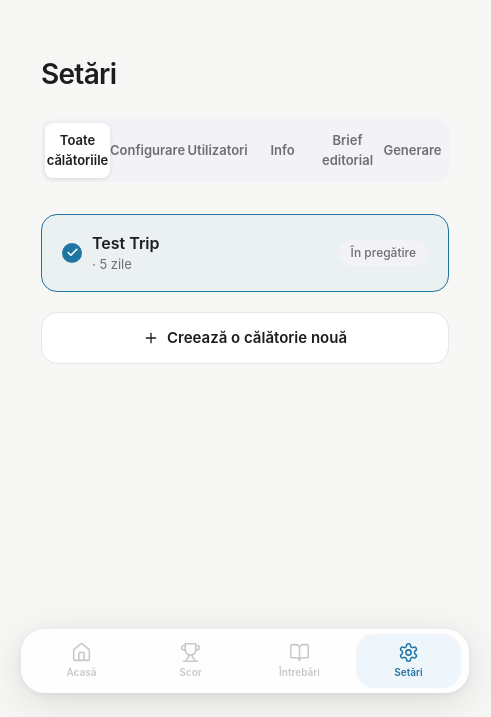
Test: R9: Generare tab -- draft review (accept/edit/reject/regenerate) › shows a pending draft marked explicitly as a draft, with its options and explanation
Click the button "Generare".
click(412, 150)  # box [380,123,445,178]
(page scrolled)
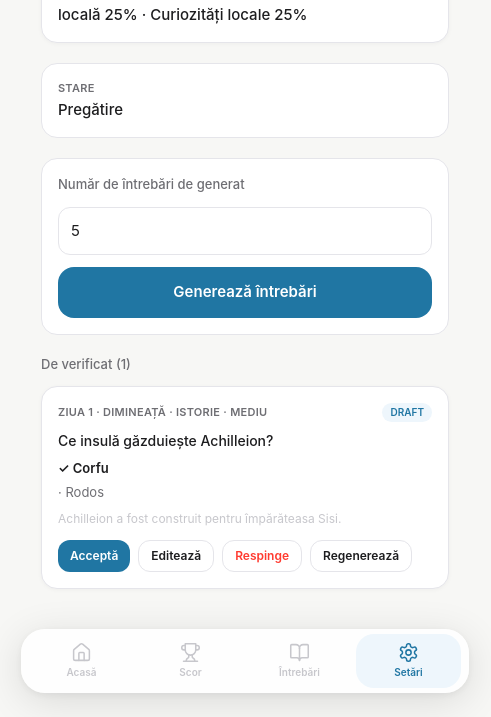
Result: the text "DRAFT" is shown at [382,403,432,422]
Result: the text "Ce insulă găzduiește Achilleion?" is shown at [58,432,273,449]
Result: the list item "✓ Corfu" is shown at [58,460,109,476]
